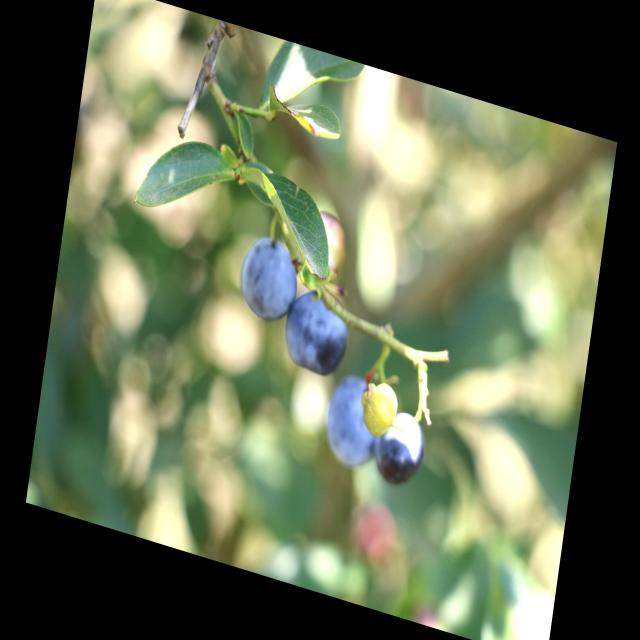blueberry: (278, 279, 356, 386), (318, 364, 391, 476), (232, 222, 305, 332), (367, 397, 432, 498)
blueberry-unripe: (356, 378, 399, 440)
